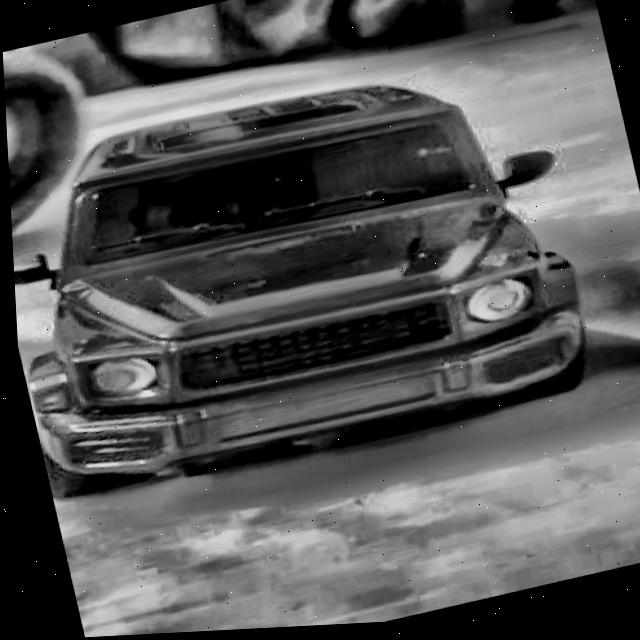light_vehicle: (2, 36, 614, 499)
